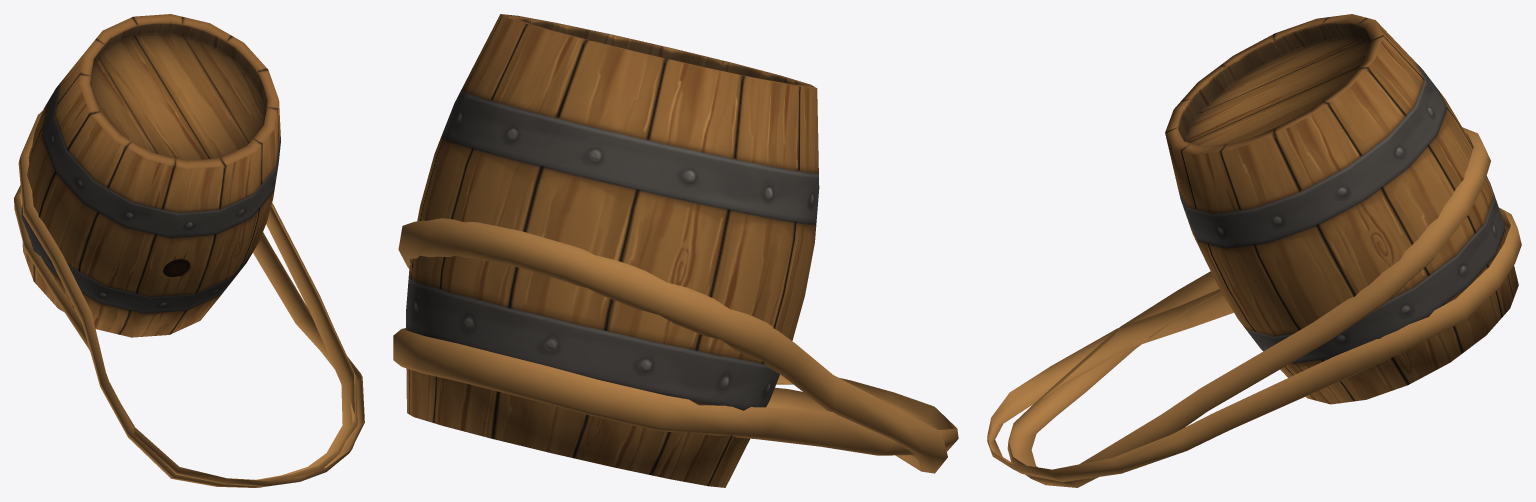
The model's file is Baboon_Barrel_Rocket.fbx.
3 renders of one model, left to right at view 1: azimuth 30°, elevation 25°; view 2: azimuth 150°, elevation 25°; view 3: azimuth 270°, elevation 25°, orthographic. The views are drawn at different scales.
Visible parts, largest first — view 1: Barrel_; view 2: Barrel_; view 3: Barrel_.
Part boxes in pixels (bbox=[...]): Barrel_: bbox=[14, 14, 364, 487]; Barrel_: bbox=[393, 14, 958, 487]; Barrel_: bbox=[987, 14, 1521, 487].
Size of the model in its own units: 38.5 by 55.95 by 64.76.
